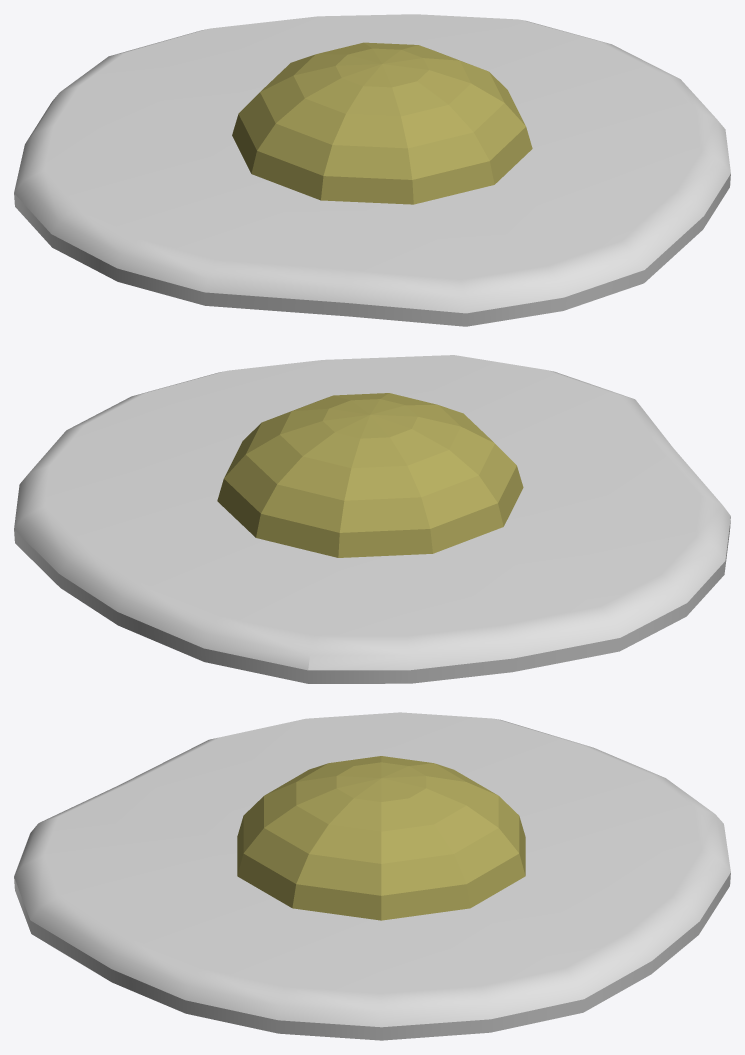
Rendered from EggCooked.fbx.
3 renders of one model, top to bottom at view 1: azimuth 30°, elevation 25°; view 2: azimuth 150°, elevation 25°; view 3: azimuth 270°, elevation 25°, orthographic.
Parts seen in each view (by area): view 1: Whites, Yolk; view 2: Whites, Yolk; view 3: Whites, Yolk.
Boxes of the visible parts, x1,y1,x2,y2 form: Whites: [14, 14, 730, 326]; Yolk: [232, 42, 532, 204]; Whites: [14, 355, 730, 683]; Yolk: [217, 393, 523, 557]; Whites: [14, 712, 730, 1040]; Yolk: [237, 756, 525, 920].
Size of the model in its own units: 4.76 by 0.8185 by 4.7.
